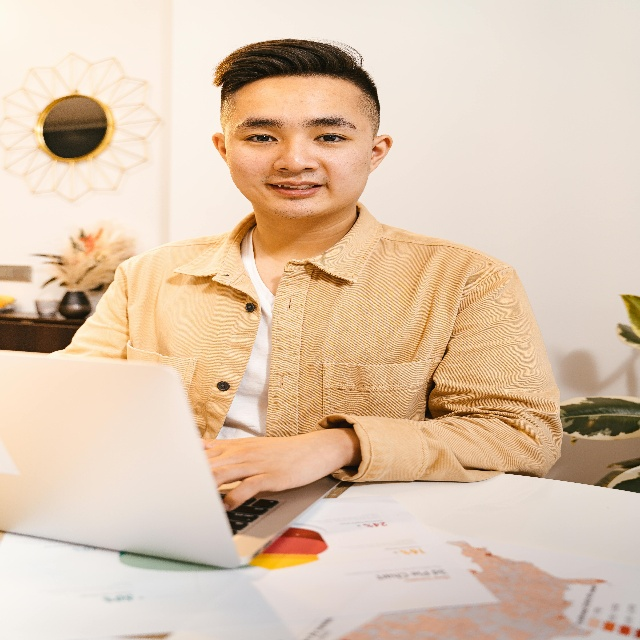Sin_guantes: (196, 426, 341, 514)
